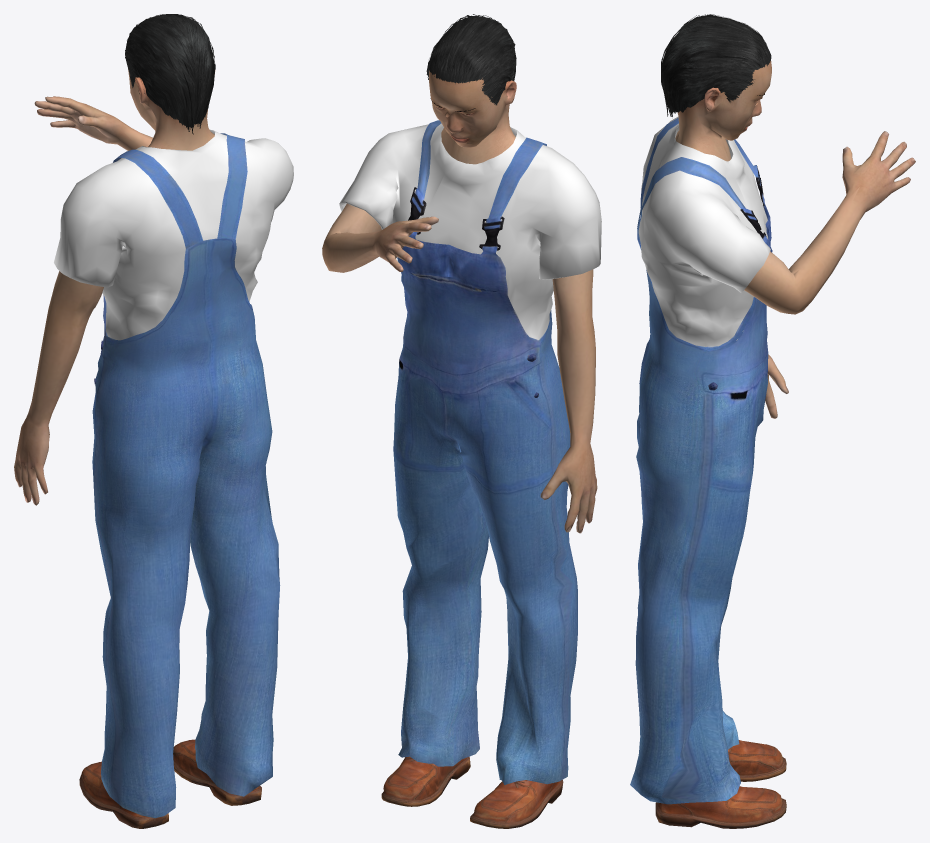
Rendered from phone_3.gltf.
3 renders of one model, left to right at view 1: azimuth 30°, elevation 25°; view 2: azimuth 150°, elevation 25°; view 3: azimuth 270°, elevation 25°, orthographic.
Visible parts, largest first — view 1: phone; view 2: phone; view 3: phone.
Part boxes in pixels (x1,y1,x2,y2): phone: (14,14,293,828); phone: (322,14,601,828); phone: (630,14,915,828).
Size of the model in its own units: 0.5511 by 1.65 by 0.5491.
Materials: 6 (6 with a texture image).
